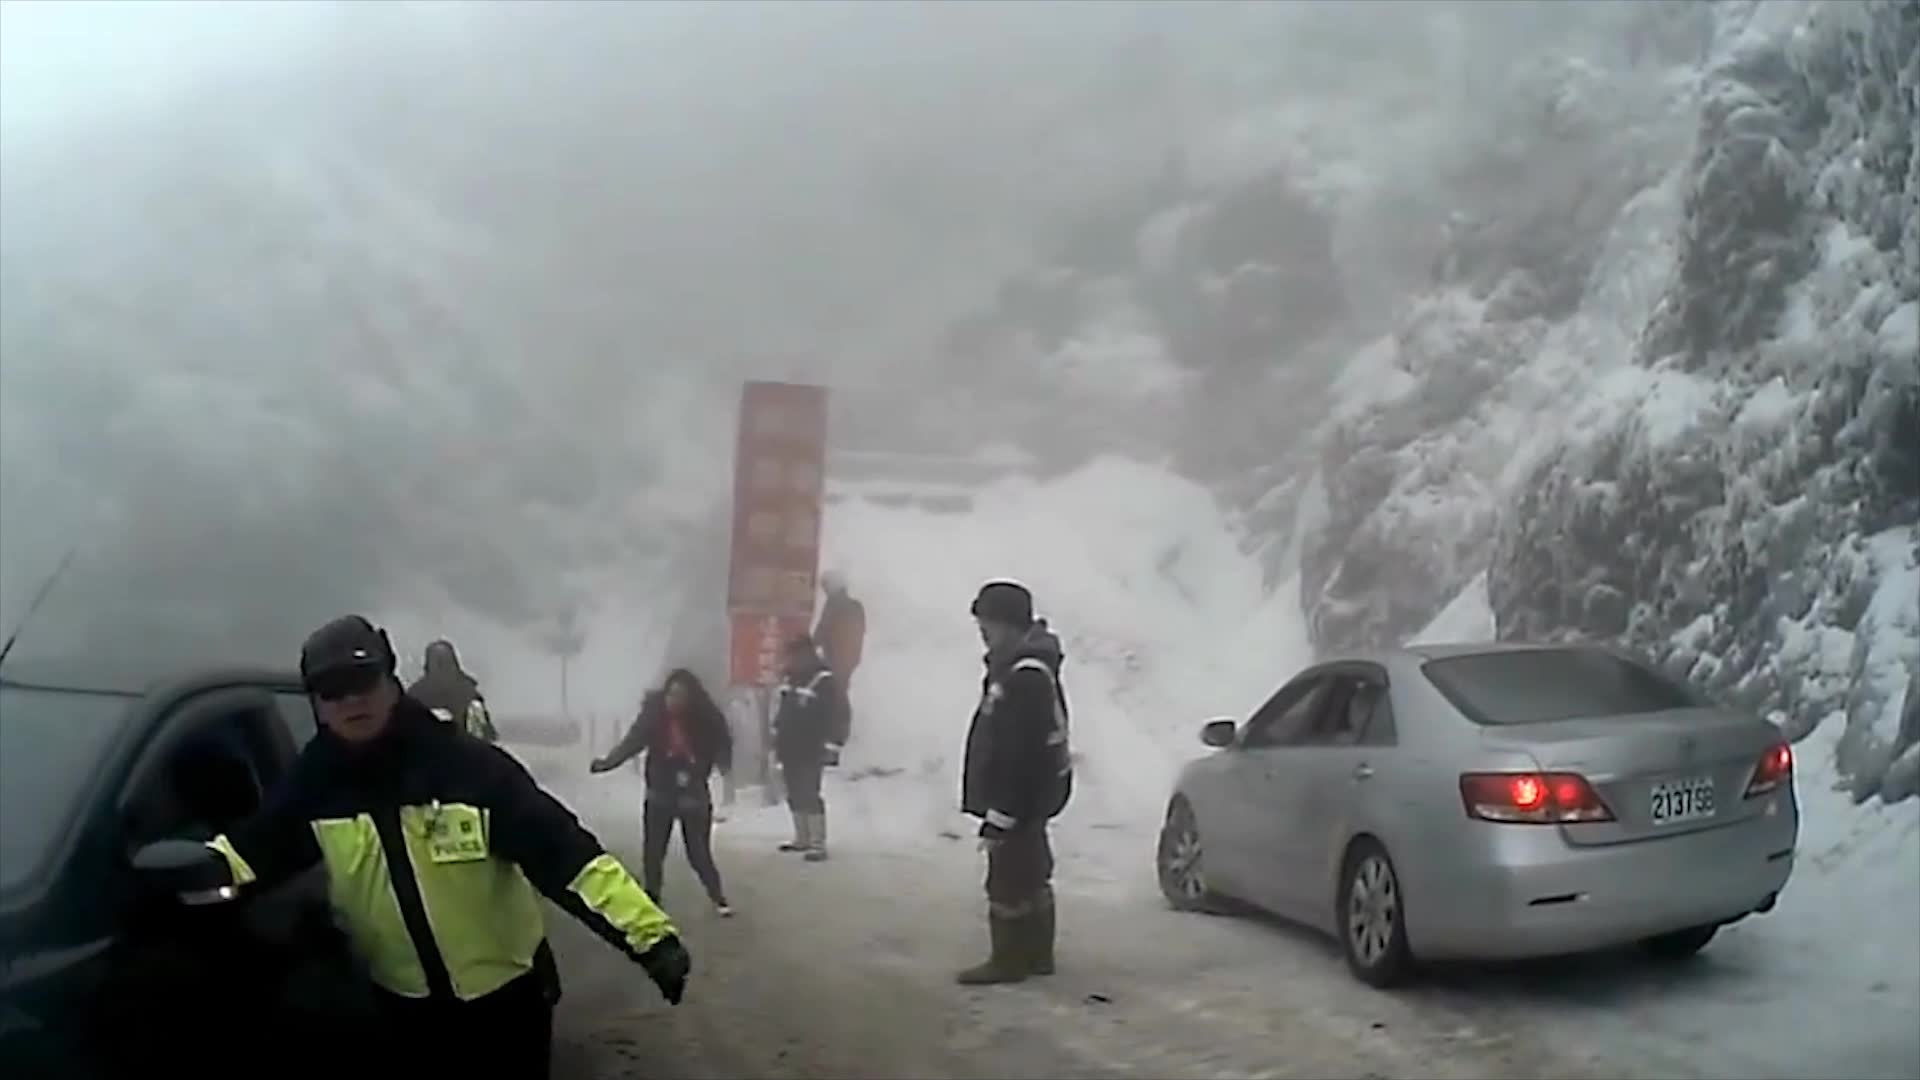pedestrian: (160, 607, 667, 1080), (947, 585, 1078, 985), (589, 671, 739, 925), (393, 643, 513, 927), (769, 640, 851, 864), (816, 567, 876, 757)
vehicle: (1156, 637, 1800, 987), (0, 656, 510, 1079)
